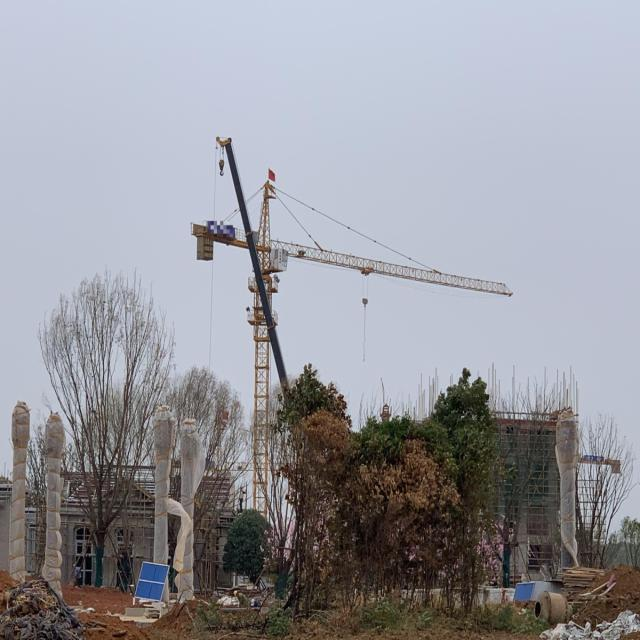crane: (246, 180, 513, 521), (216, 136, 290, 399), (190, 220, 248, 260), (580, 455, 621, 474)
